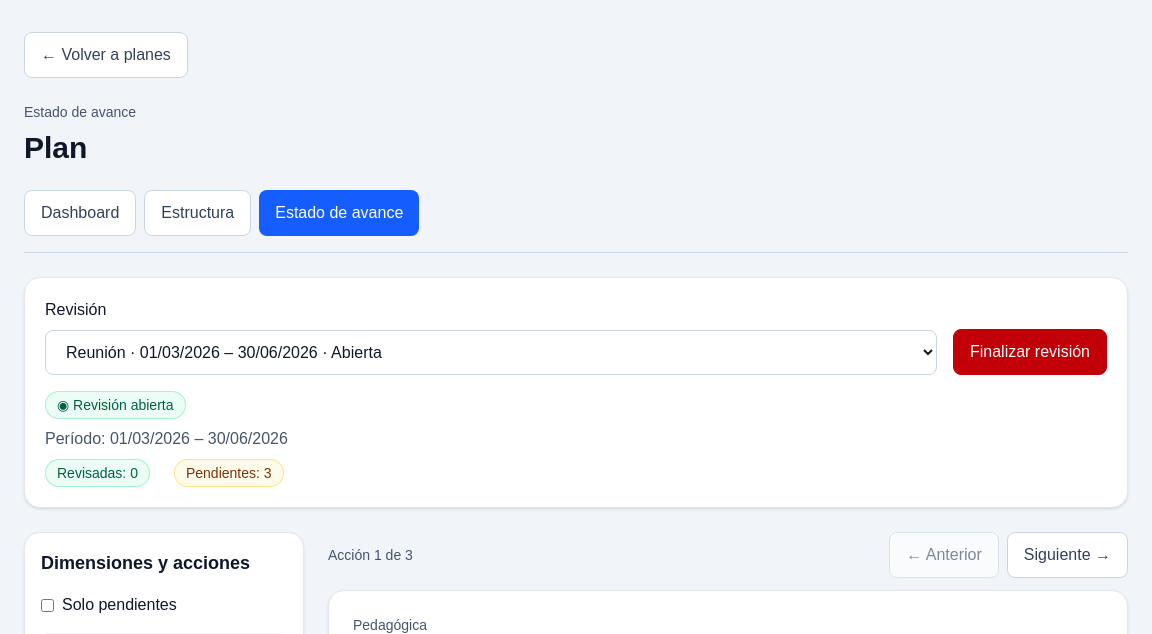
Test case: finaliza exigiendo confirmación cuando corresponde (pendientes=true)
Click the button "Finalizar revisión". click: point(1030, 352)
box: [953,329,1107,375]
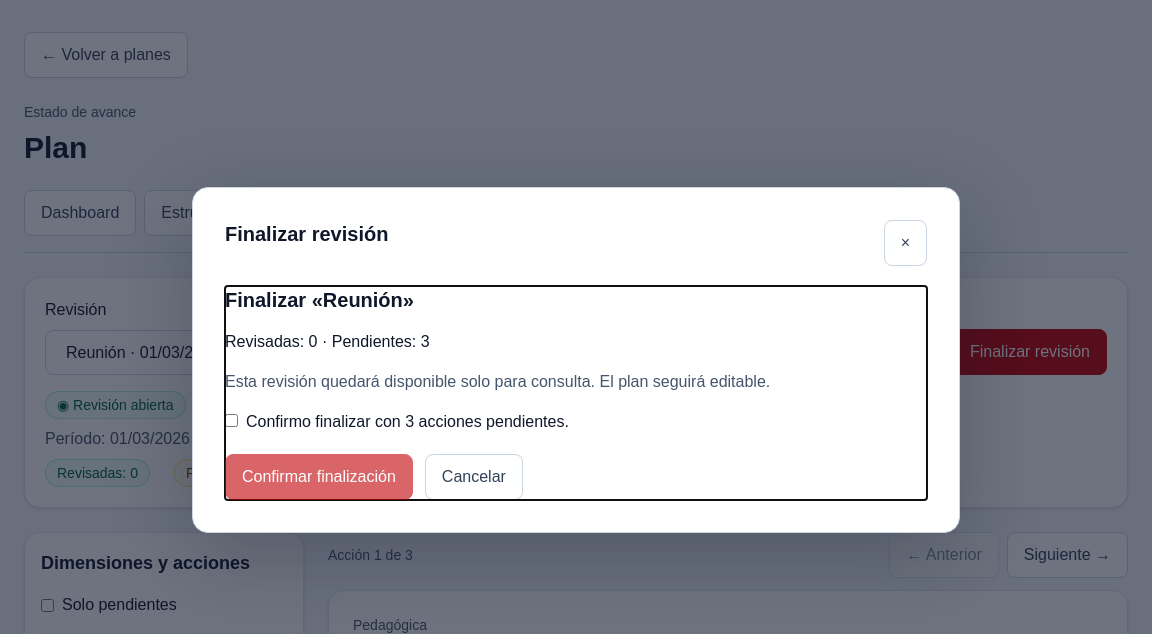
Check: the button "Confirmar finalización" is disabled, box [225,454,413,500]
Click the checkbox labelled "Confirmo finalizar con 3 acciones pendientes.". click: point(232, 420)
box: [225,414,238,427]
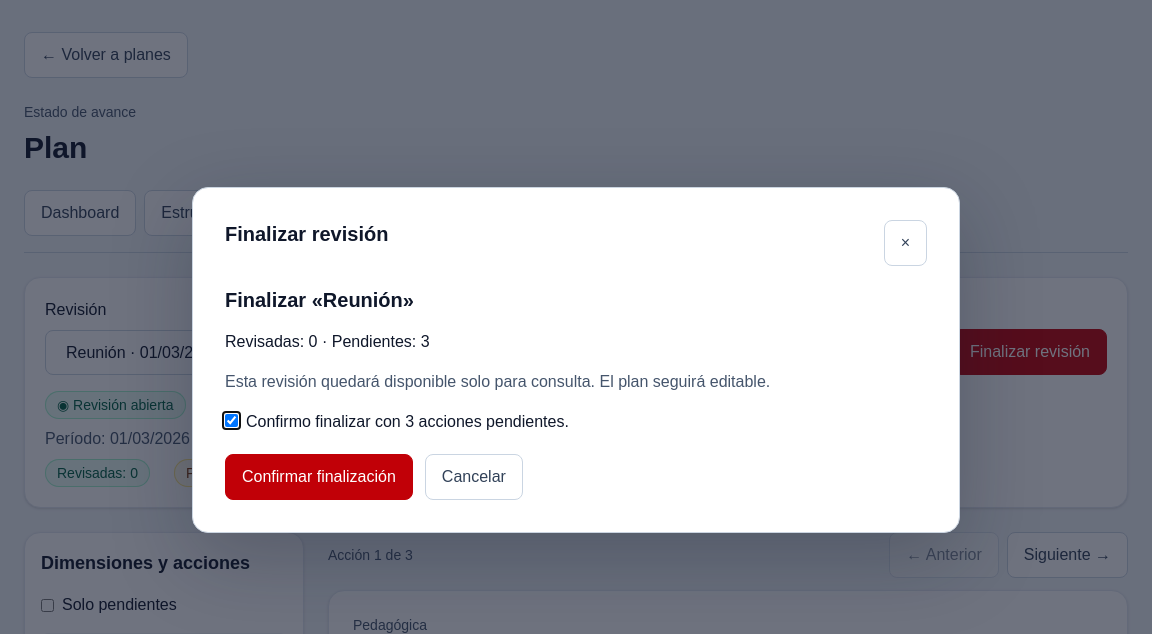
Click the button "Confirmar finalización". click: point(319, 477)
box: [225,454,413,500]
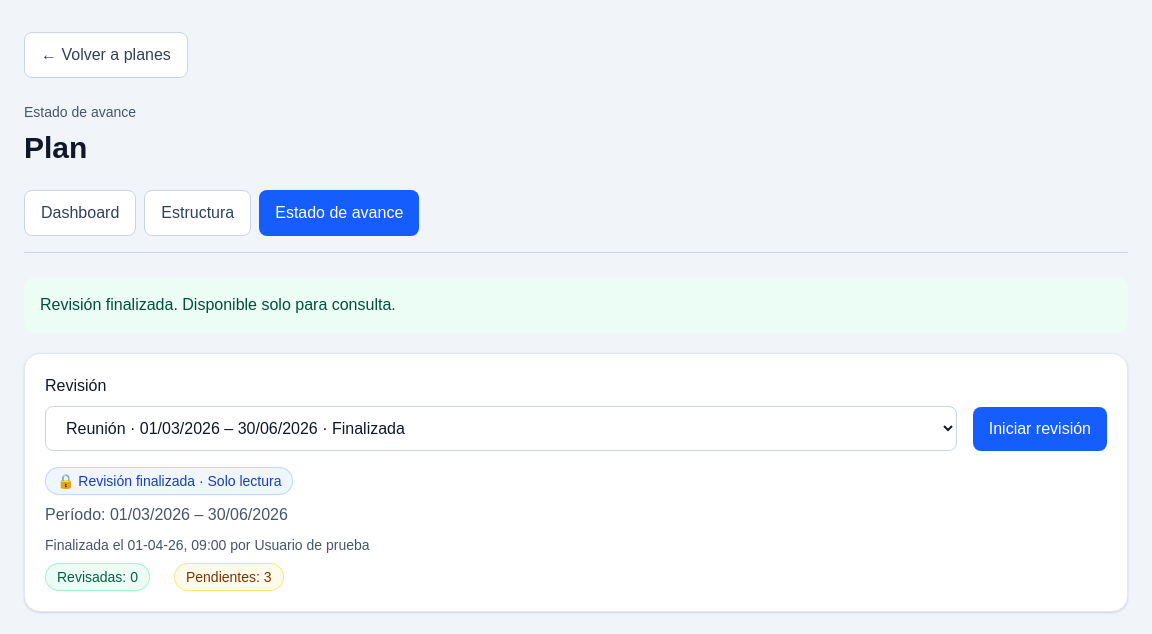
Check: no fields labelled "Nuevo avance" are shown
Check: the text "🔒 Revisión finalizada · Solo lectura" is shown, box [45,467,294,495]
